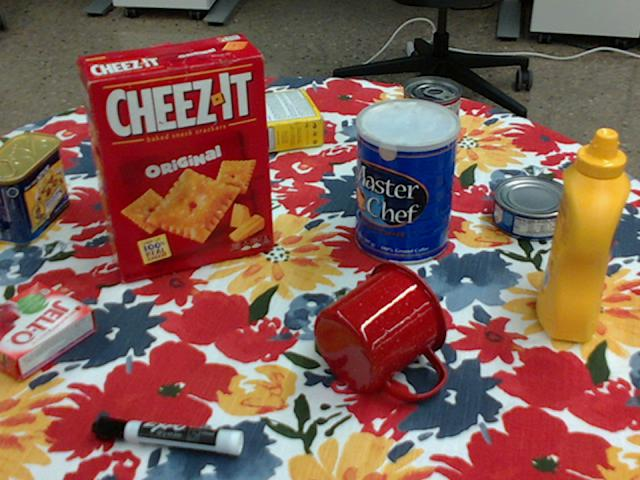cracker_box: (75, 34, 270, 280)
gelatin_box: (0, 282, 96, 381)
large_marker: (91, 415, 242, 455)
master_chef_can: (356, 99, 459, 266)
mug: (314, 261, 448, 400)
mustard_bottle: (535, 129, 628, 342)
potted_meat_can: (0, 131, 67, 244)
sugar_box: (171, 89, 322, 164)
tomato_soup_can: (400, 77, 461, 179)
tuna_fish_can: (492, 177, 574, 242)
